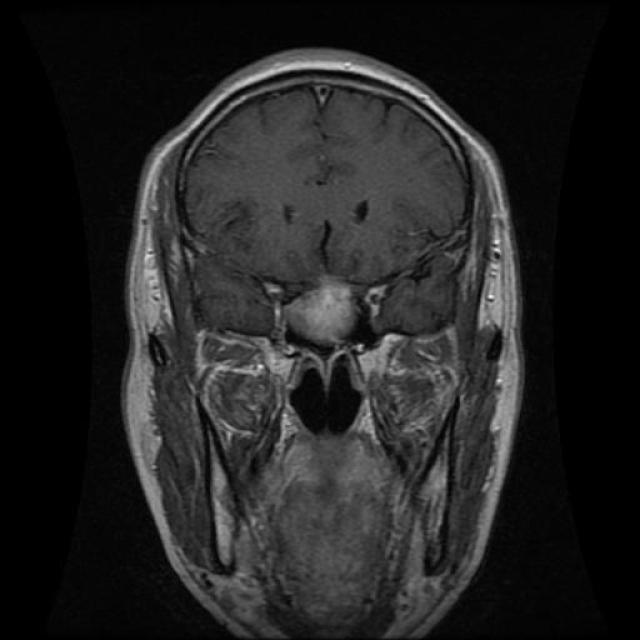pituitary: (278, 270, 369, 348)
